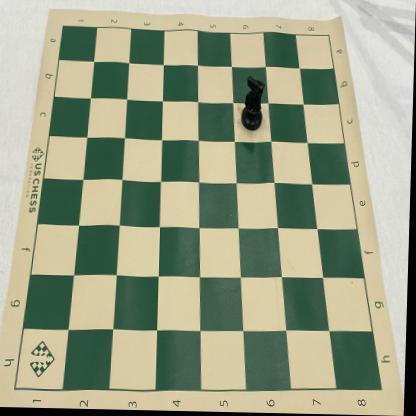black-knight: (241, 75, 266, 133)
